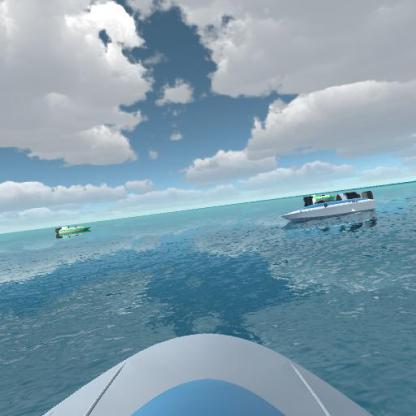usv0: (52, 223, 93, 240), (299, 189, 341, 205)
usv1: (274, 190, 386, 224)
